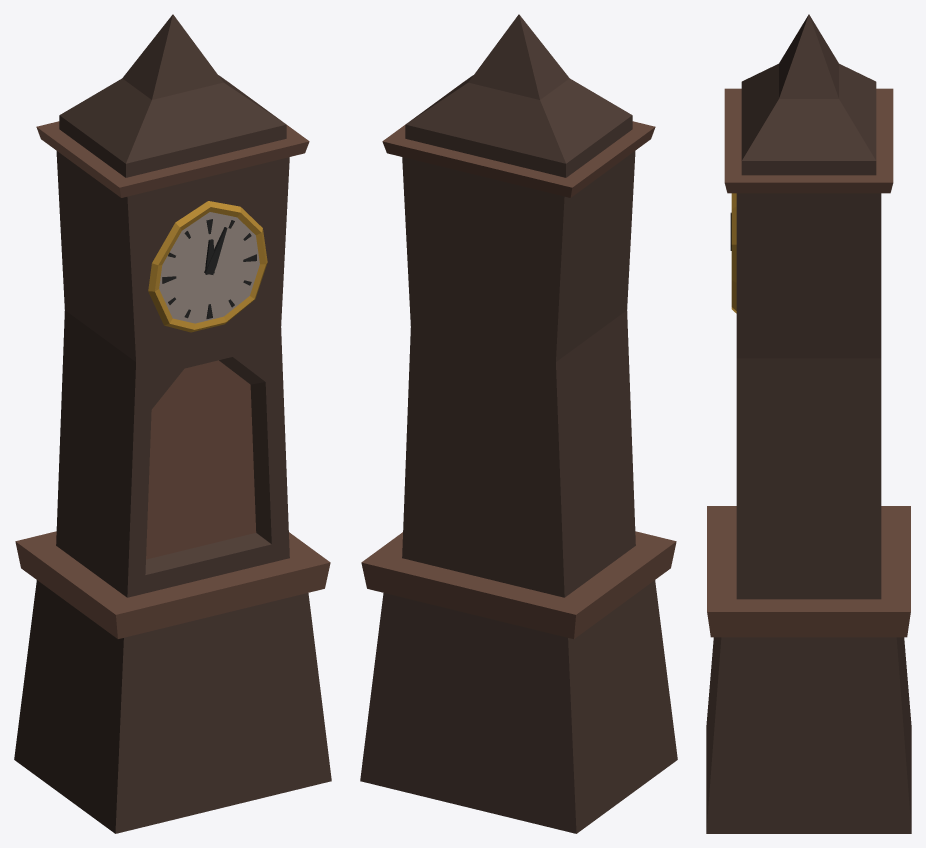
File: LPHorror_GrandfatherClockC.fbx
The picture shows the model from 3 angles, left to right: view 1: azimuth 30°, elevation 25°; view 2: azimuth 150°, elevation 25°; view 3: azimuth 270°, elevation 25°; orthographic projection.
Parts seen in each view (by area): view 1: GrandfatherClockC; view 2: GrandfatherClockC; view 3: GrandfatherClockC.
Part boxes in pixels (<box>): GrandfatherClockC: <box>14,14,331,833</box>; GrandfatherClockC: <box>360,14,677,833</box>; GrandfatherClockC: <box>706,14,911,833</box>.
Size of the model in its own units: 77.12 by 258 by 62.56.
